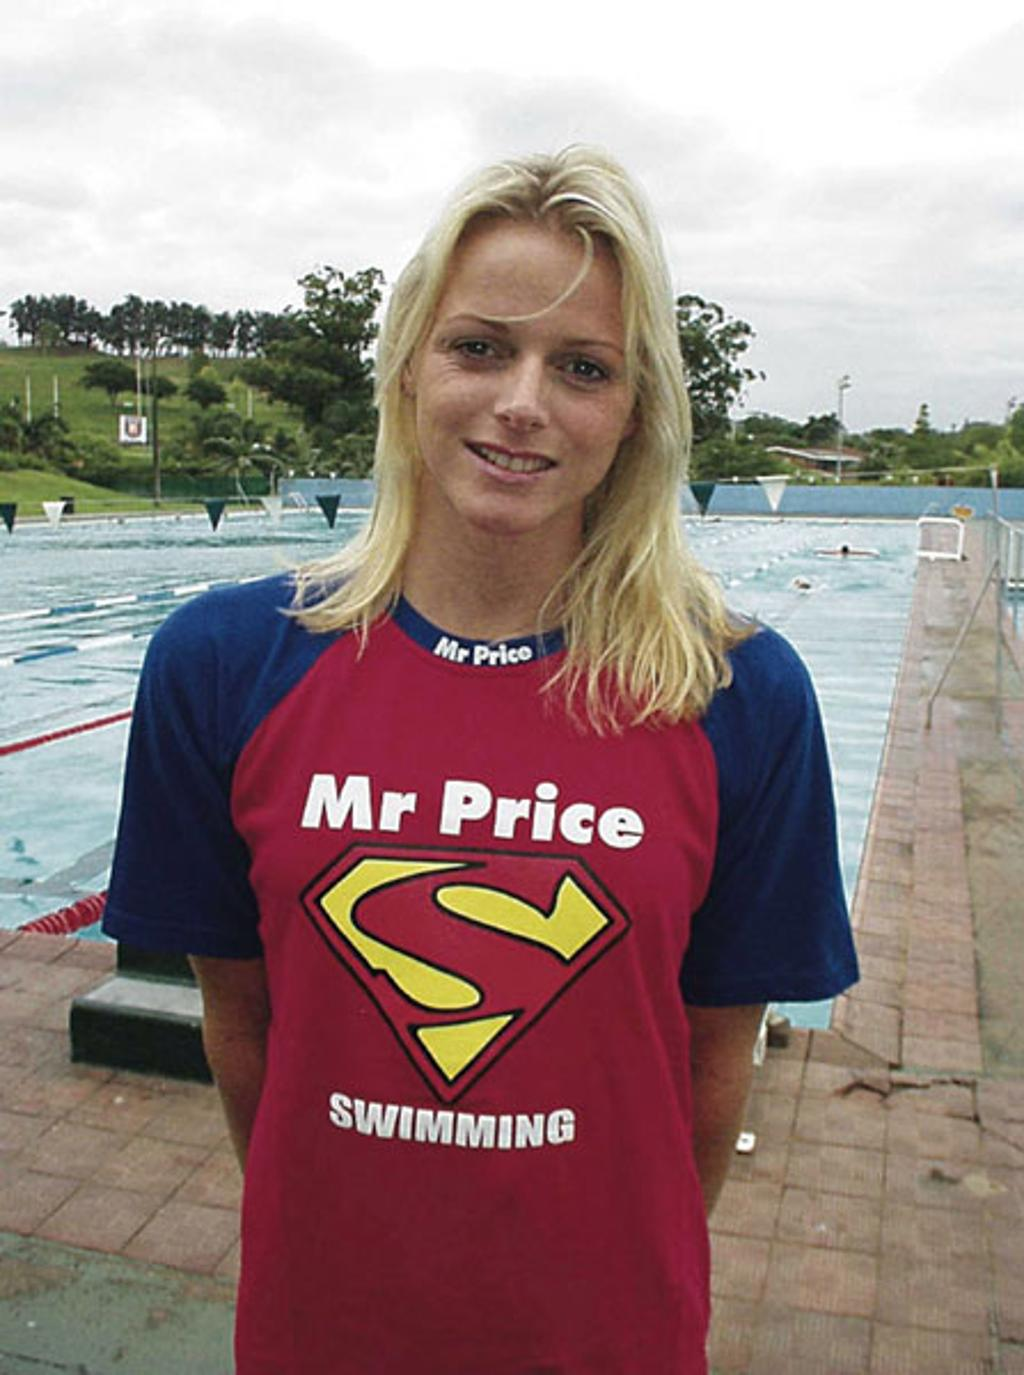face: (406, 266, 634, 524)
